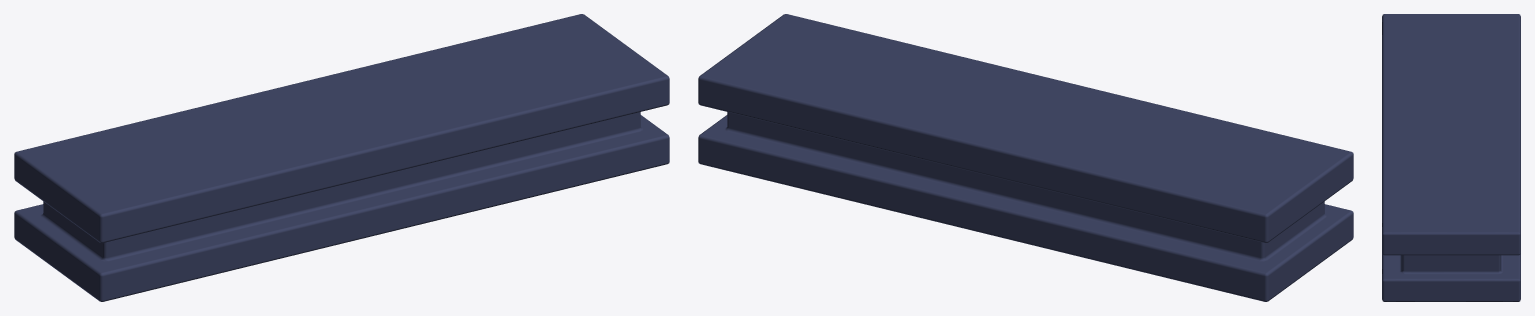
File: Iron.fbx
3 views of the same model, side by side, from view 1: azimuth 30°, elevation 25°; view 2: azimuth 150°, elevation 25°; view 3: azimuth 270°, elevation 25° (orthographic). The views are drawn at different scales.
Visible parts, largest first — view 1: Cube.064; view 2: Cube.064; view 3: Cube.064.
Part boxes in pixels (<box>): Cube.064: <box>14,14,669,301</box>; Cube.064: <box>698,14,1353,301</box>; Cube.064: <box>1382,14,1520,301</box>.
Bounding box in the file's own units: 521 × 77.12 × 139.
